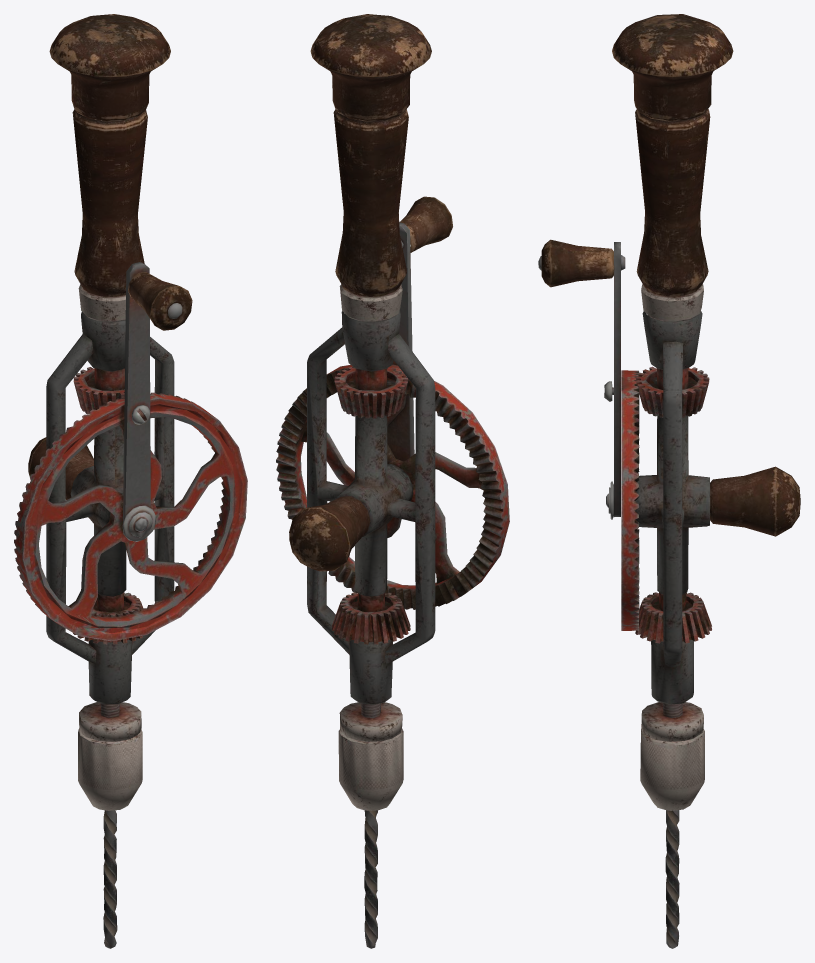
The model's file is vintage_hand_drill.gltf.
The picture shows the model from 3 angles, left to right: view 1: azimuth 30°, elevation 25°; view 2: azimuth 150°, elevation 25°; view 3: azimuth 270°, elevation 25°; orthographic projection.
Parts seen in each view (by area): view 1: vintage_hand_drill__x; view 2: vintage_hand_drill__x; view 3: vintage_hand_drill__x.
Part boxes in pixels (x1=…): vintage_hand_drill__x: x1=14, y1=14, x2=247, y2=948; vintage_hand_drill__x: x1=276, y1=14, x2=509, y2=948; vintage_hand_drill__x: x1=538, y1=14, x2=800, y2=948.
Bounding box in the file's own units: 0.1239 × 0.4857 × 0.1251.
Materials: 1 (1 with a texture image).
